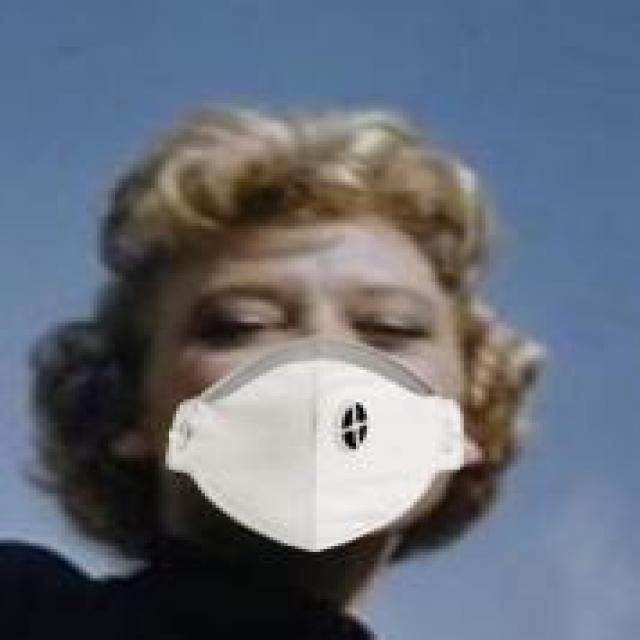mask: (58, 100, 550, 581)
